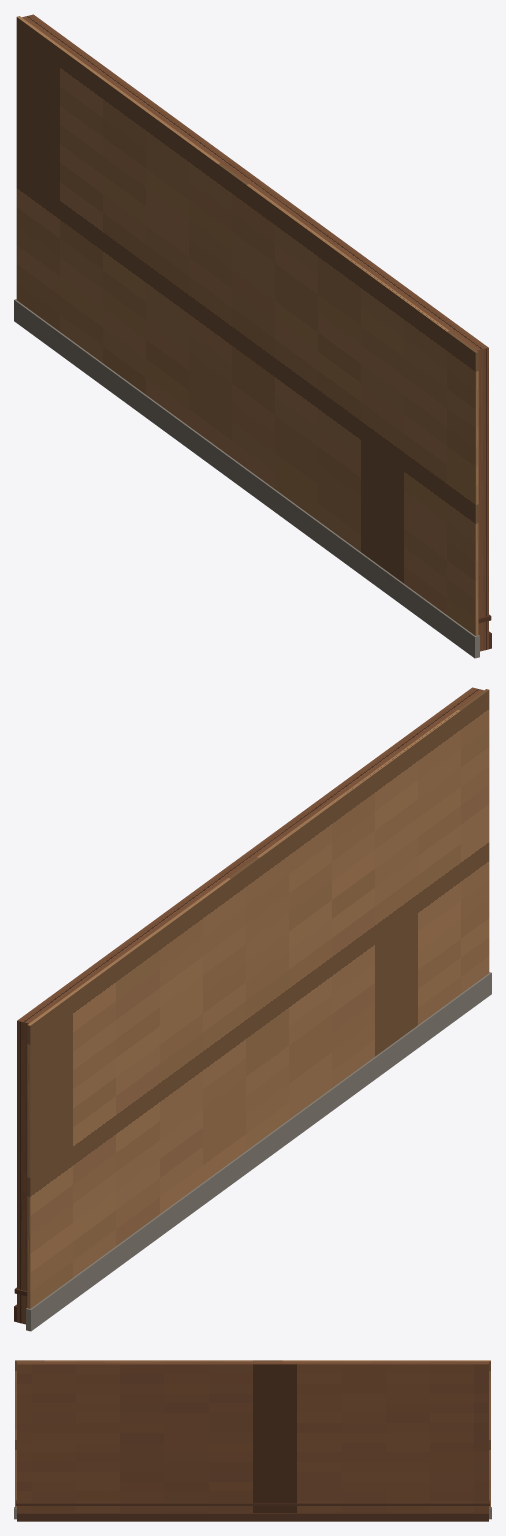
The model's file is left.glb.
3 views of the same model, one above another, from view 1: azimuth 30°, elevation 25°; view 2: azimuth 150°, elevation 25°; view 3: azimuth 270°, elevation 25° (orthographic). The views are drawn at different scales.
Parts seen in each view (by area): view 1: Box3, Box4, Box1; view 2: Box3, Box4, Box1; view 3: Box1, Box2, Box3, Box6.
Boxes of the visible parts, <box> form: Box3: <box>16,16,478,635</box>; Box4: <box>14,299,479,658</box>; Box1: <box>22,14,488,651</box>; Box3: <box>27,689,489,1308</box>; Box4: <box>26,972,491,1331</box>; Box1: <box>17,687,483,1324</box>; Box1: <box>17,1361,488,1512</box>; Box2: <box>17,1513,488,1521</box>; Box3: <box>15,1360,490,1507</box>; Box6: <box>16,1500,489,1505</box>.
Size of the model in its own units: 0.25 by 3.64 by 9.97.
4 materials, 2 textured.
